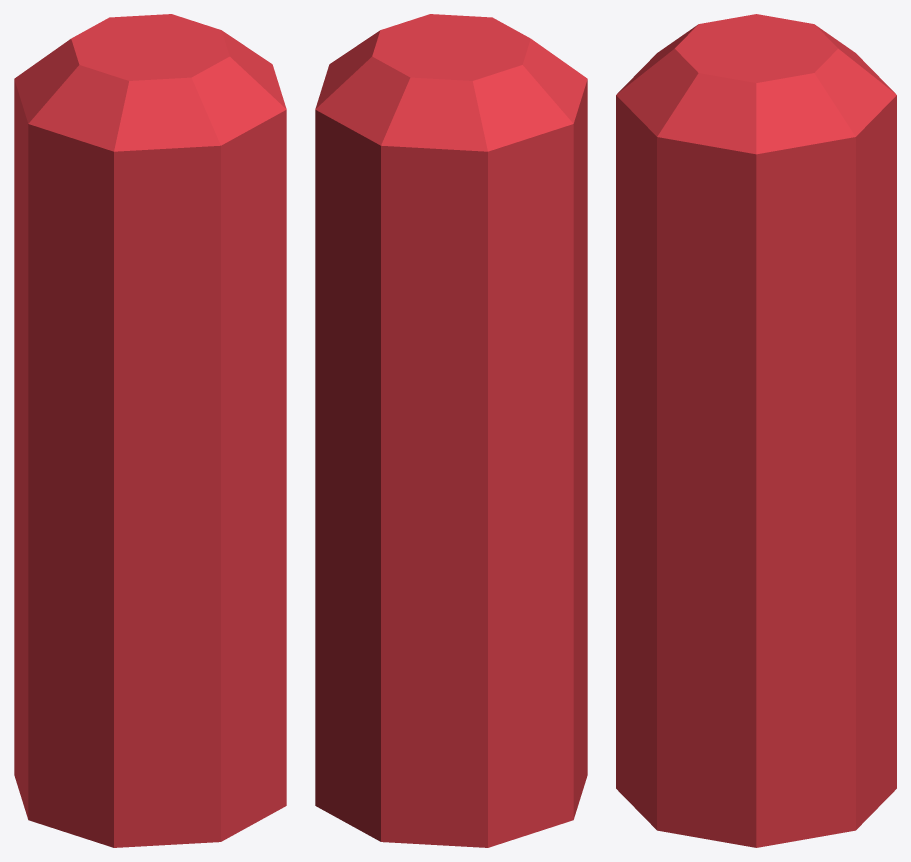
The model's file is crystal_1.fbx.
The picture shows the model from 3 angles, left to right: view 1: azimuth 30°, elevation 25°; view 2: azimuth 150°, elevation 25°; view 3: azimuth 270°, elevation 25°; orthographic projection.
Visible parts, largest first — view 1: Cylinder; view 2: Cylinder; view 3: Cylinder.
Part boxes in pixels (box(x1,y1,x2,y2)): Cylinder: box(14, 14, 286, 847); Cylinder: box(315, 14, 587, 847); Cylinder: box(616, 14, 896, 847).
Size of the model in its own units: 200 by 581 by 200.
